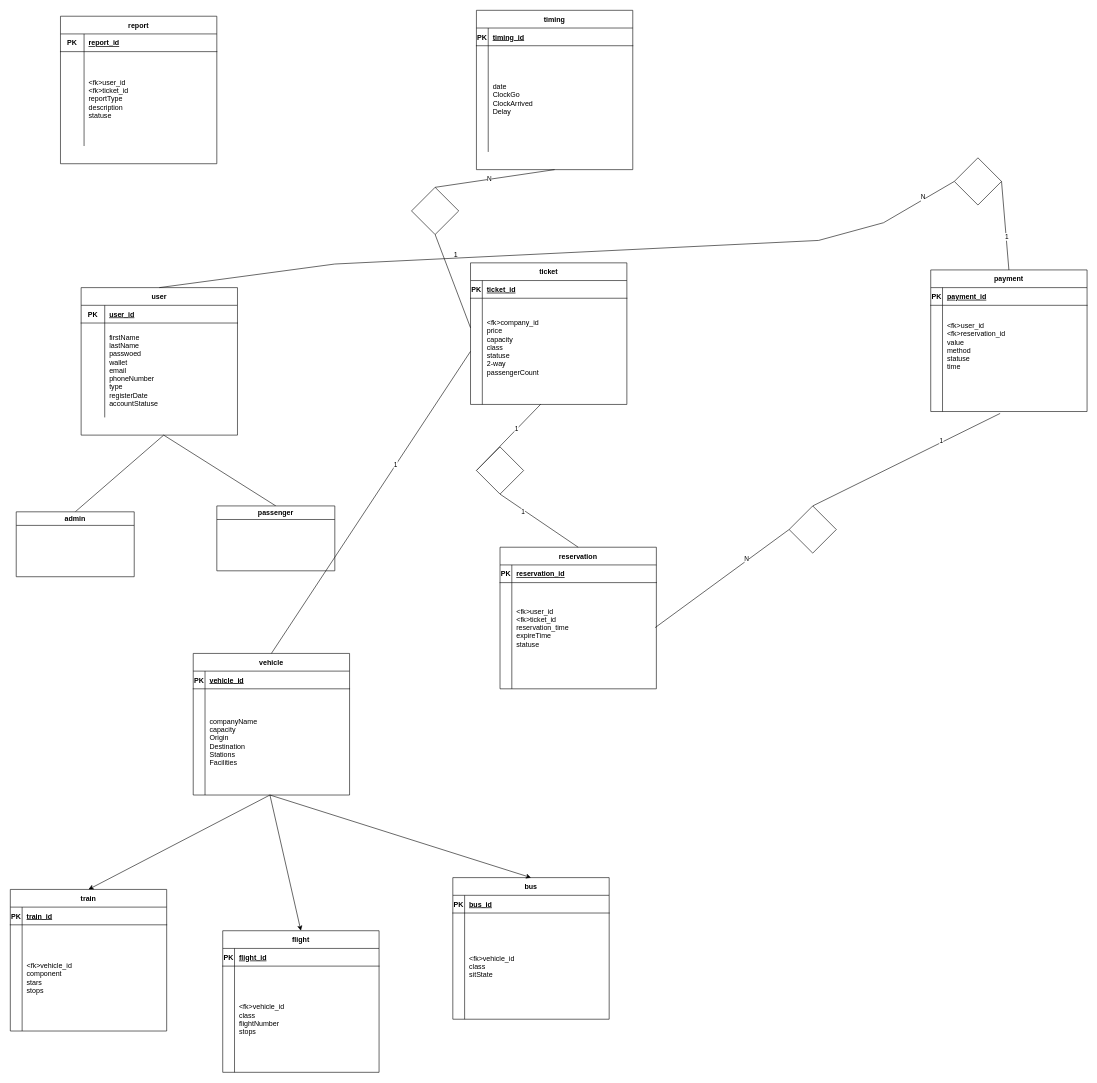
Image size: 1097x1083. Some labels were removed from this diagram. Each missing label, with the centre of its shape:
"devote" goes at (x=500, y=470).
"Do" goes at (x=978, y=181).
"has" goes at (x=435, y=211).
"link" goes at (x=812, y=529).
